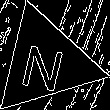N_N: (19, 33, 71, 92)
